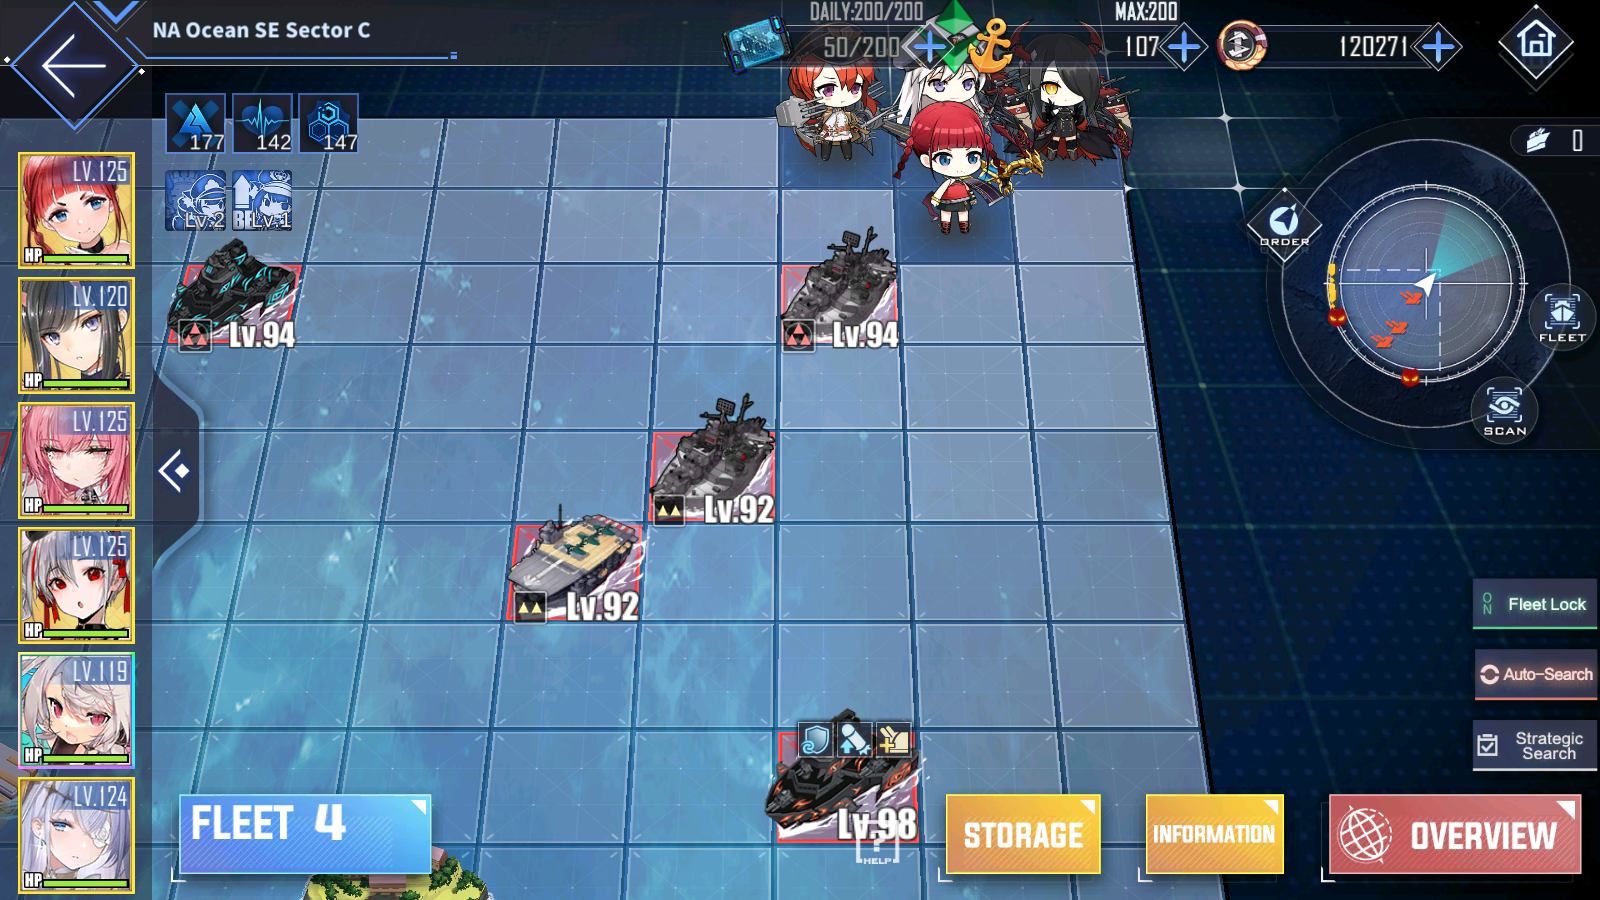ally: (890, 1, 1016, 264), (1008, 23, 1134, 191), (773, 16, 891, 188), (890, 15, 1005, 178)
enemy: (767, 709, 918, 842), (644, 393, 777, 525), (163, 236, 297, 347), (509, 515, 642, 623), (781, 227, 898, 346)
